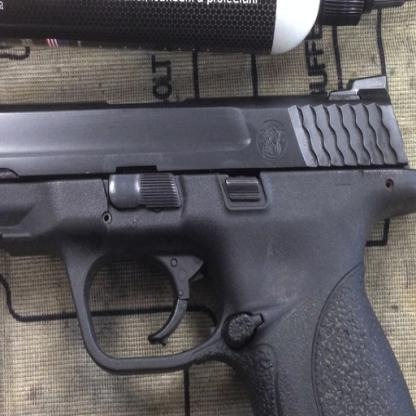gun: (0, 70, 415, 415)
